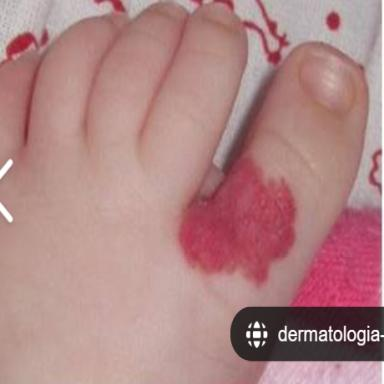Hemangiome: (180, 155, 295, 285)
